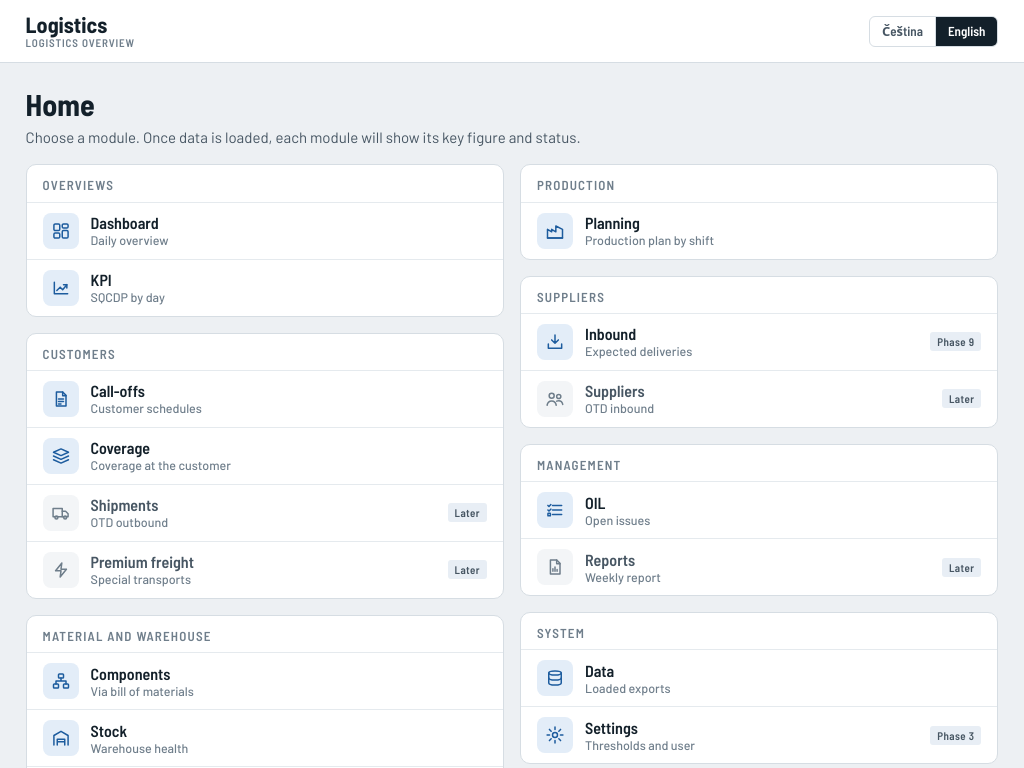
it: App › přepne jazyk a zapamatuje si ho
The width and height of the screenshot is (1024, 768).
Click the button "Čeština": coordinates (902, 31) [870,17,935,46]
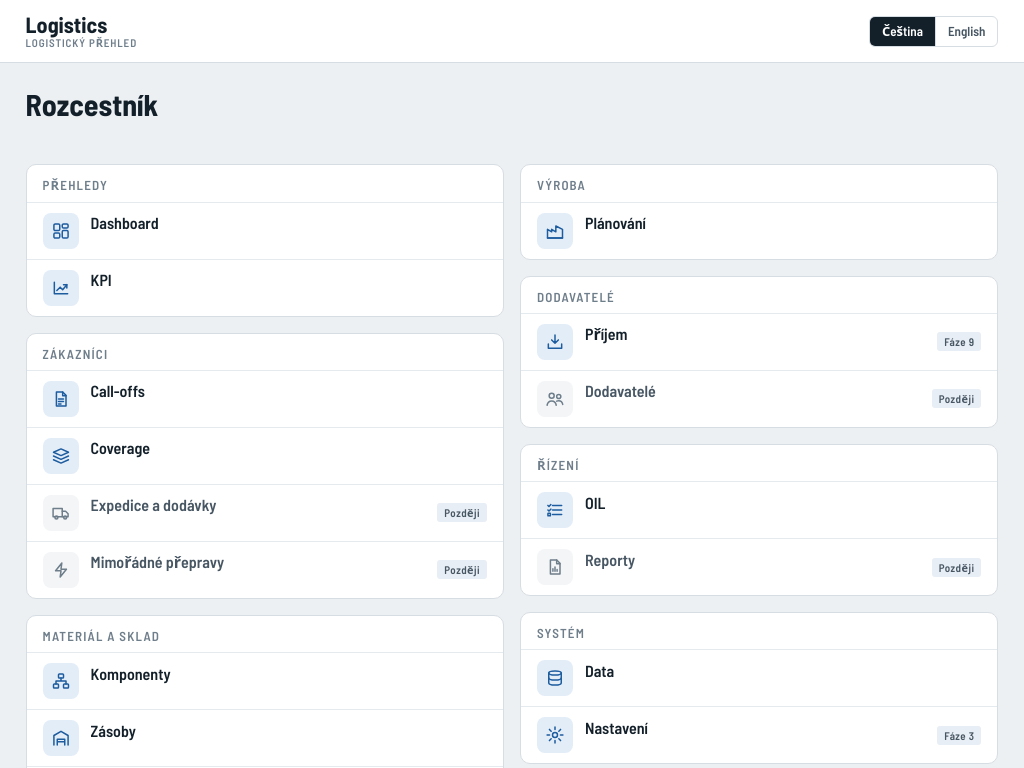
expect the heading "Rozcestník" is shown: met, box [26,86,158,122]
Click the button "English": coordinates (966, 31) [935,17,997,46]
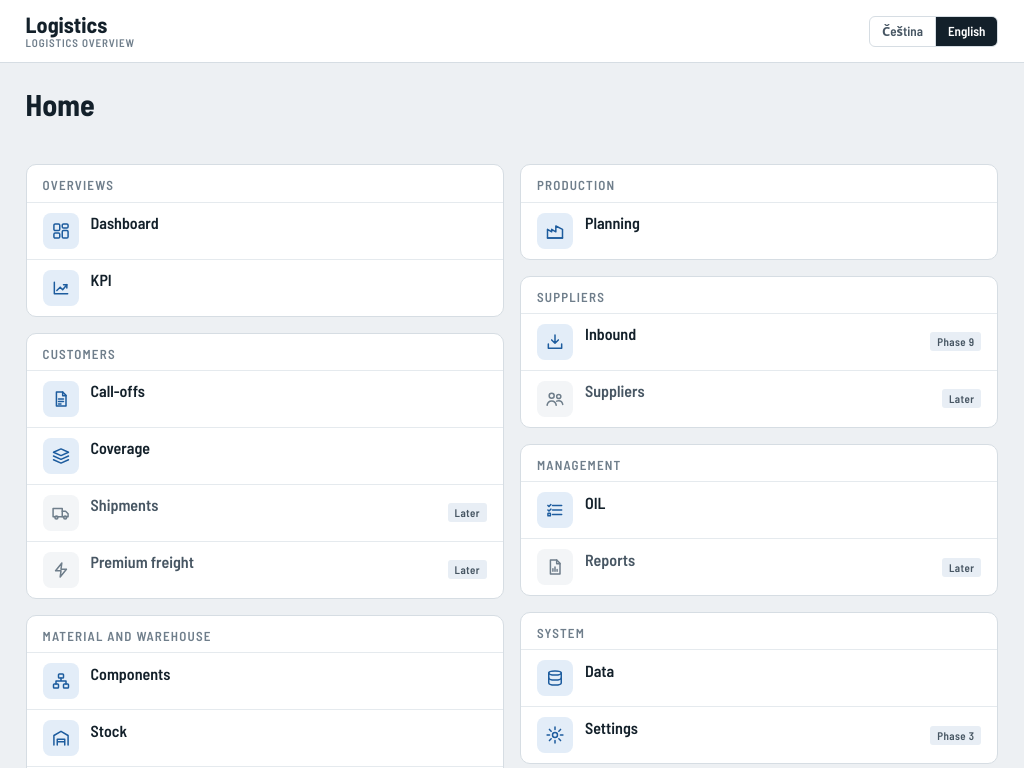
expect the heading "Home" is shown: met, box [26,86,95,122]
